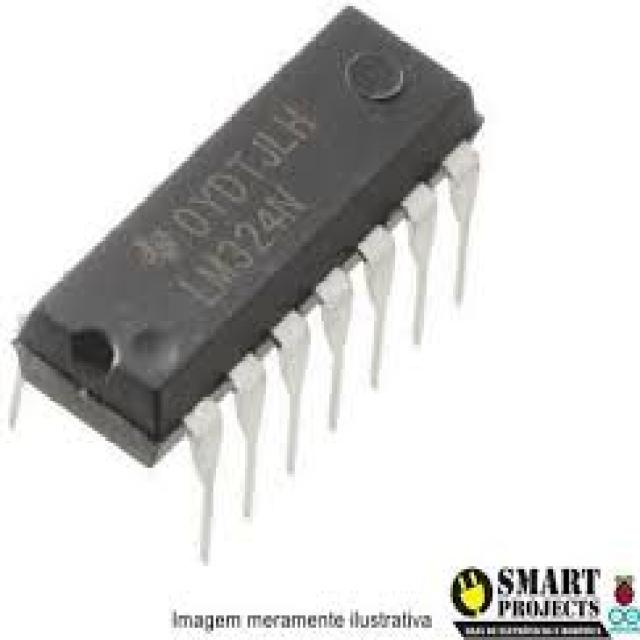IC: (12, 1, 484, 475)
